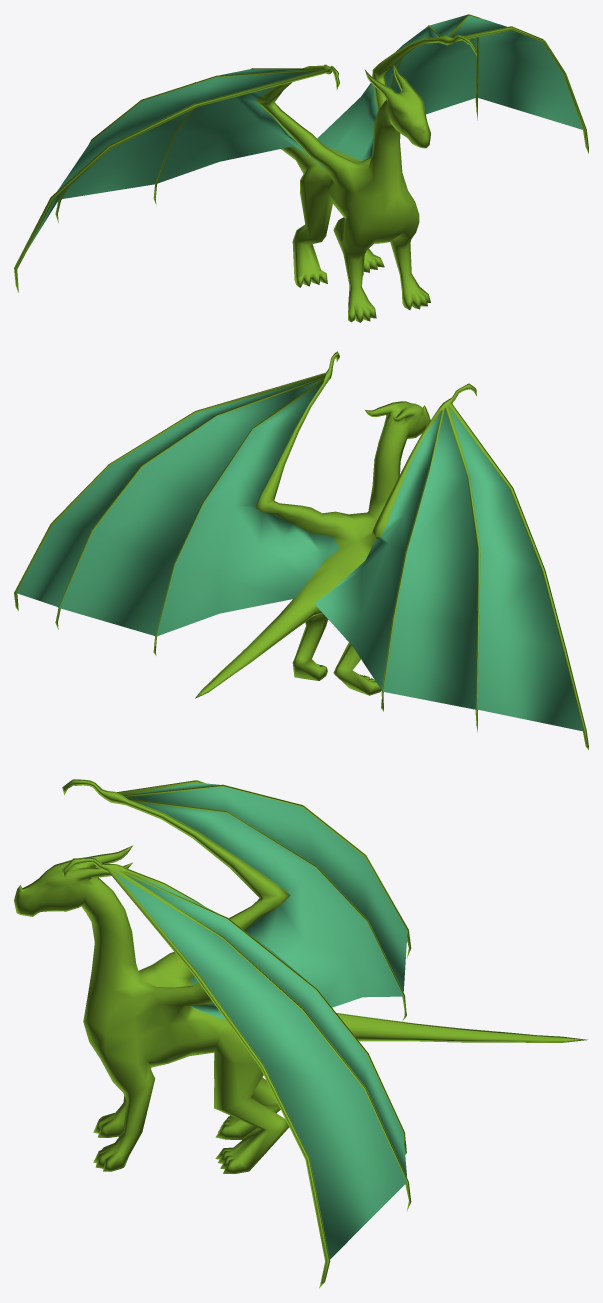
Rendered from dragon.gltf.
3 renders of one model, top to bottom at view 1: azimuth 30°, elevation 25°; view 2: azimuth 150°, elevation 25°; view 3: azimuth 270°, elevation 25°, orthographic. The views are drawn at different scales.
Visible parts, largest first — view 1: Body; view 2: Body; view 3: Body.
Part boxes in pixels (x1=…): Body: x1=14, y1=14, x2=588, y2=322; Body: x1=14, y1=351, x2=588, y2=750; Body: x1=14, y1=779, x2=587, y2=1288.
Size of the model in its own units: 6.32 by 2.82 by 4.45.
